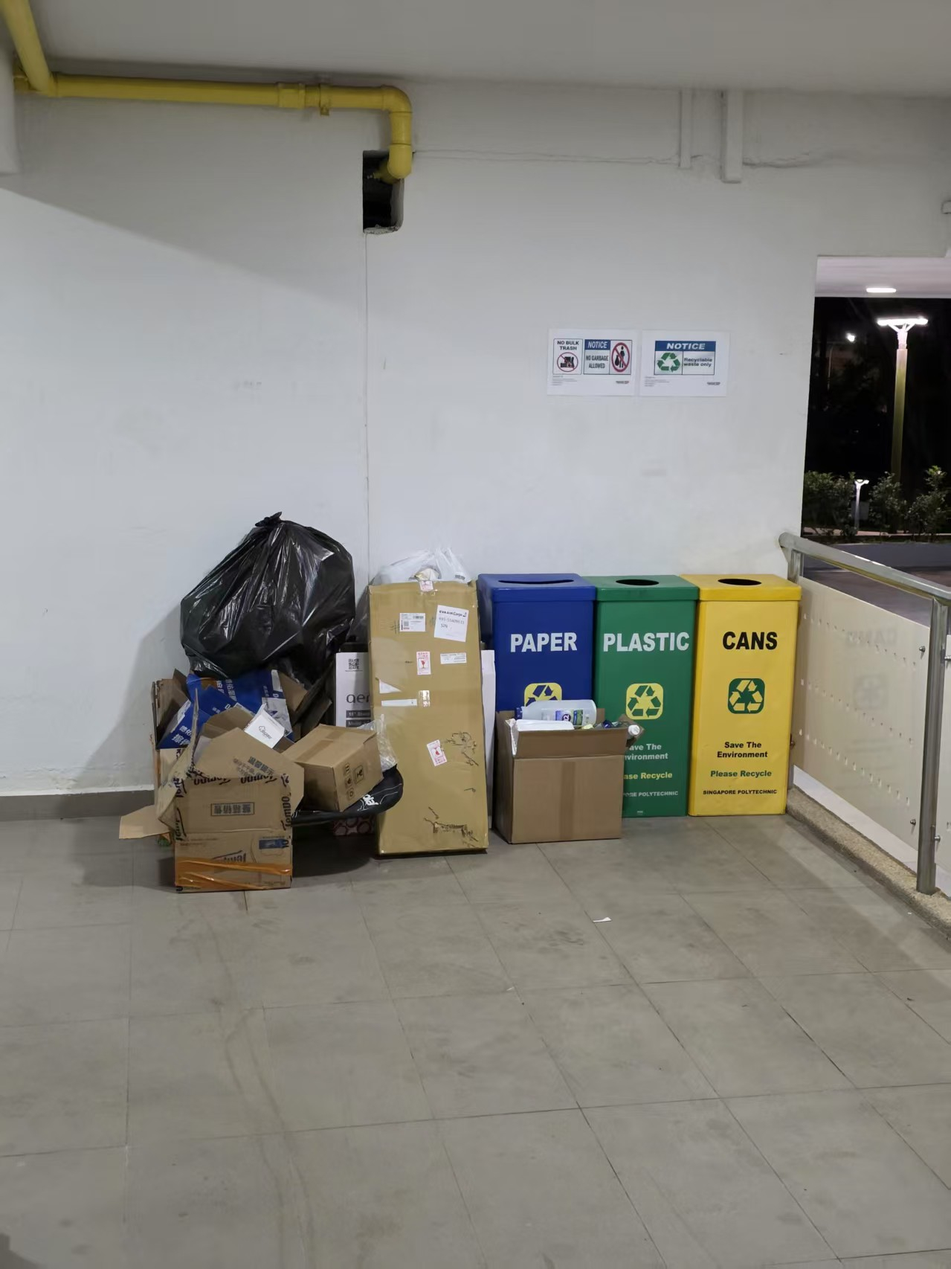bin_empty: (682, 574, 800, 815), (588, 574, 697, 817), (478, 571, 594, 711)
bulk_waste: (119, 671, 303, 891), (369, 579, 488, 855), (291, 652, 402, 861), (494, 713, 628, 844)
normal_waste: (181, 513, 355, 687)
